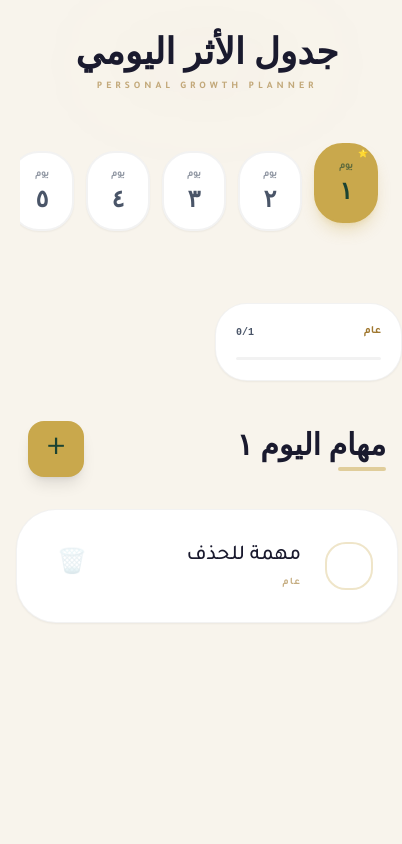
Test: RamadanPlanner Component › allows deleting a task
# Delete button (represented by trash emoji 🗑️)
Click the button "🗑️" at (72, 566), box top-left (41, 534), bottom-right (103, 598)
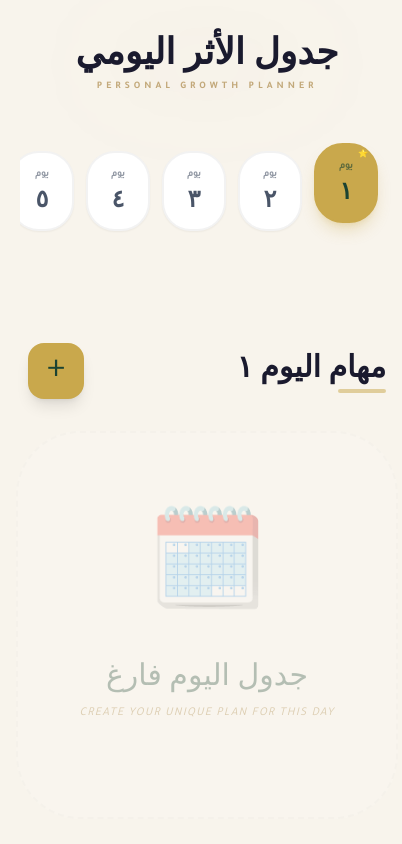
Expected: the text "مهمة للحذف" is gone
